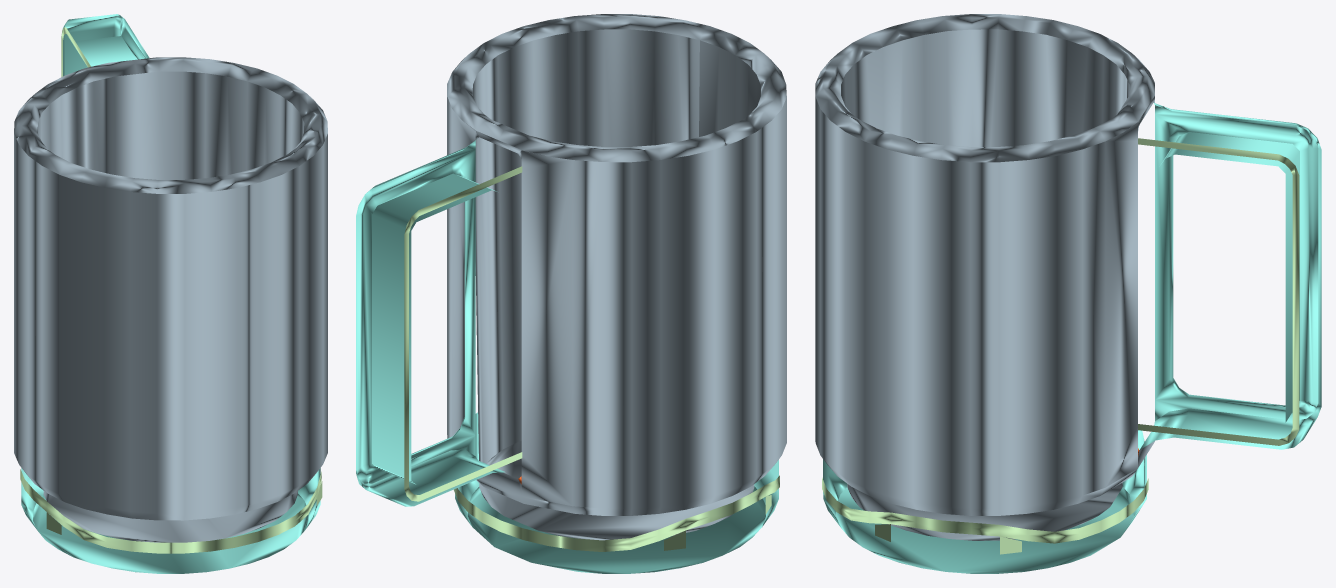
File: mug_coffee_1_a.glb
3 renders of one model, left to right at view 1: azimuth 30°, elevation 25°; view 2: azimuth 150°, elevation 25°; view 3: azimuth 270°, elevation 25°, orthographic. The views are drawn at different scales.
Bounding box in the file's own units: 0.0898 × 0.125 × 0.134.
